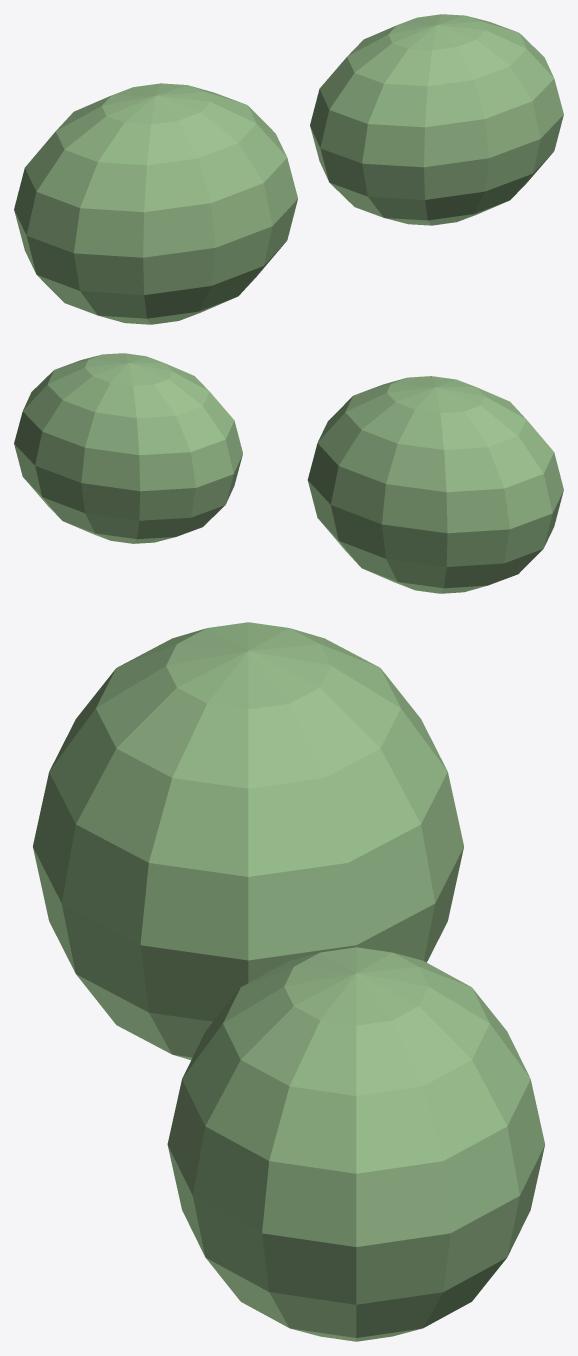
Rendered from vacant_lot_shrubs.glb.
3 views of the same model, one above another, from view 1: azimuth 30°, elevation 25°; view 2: azimuth 150°, elevation 25°; view 3: azimuth 270°, elevation 25° (orthographic). The views are drawn at different scales.
Parts seen in each view (by area): view 1: s1, s2; view 2: s1, s2; view 3: s1, s2.
Part boxes in pixels (x1,y1,x2,y2): s1: [14, 83, 297, 324]; s2: [310, 14, 563, 225]; s1: [307, 376, 563, 593]; s2: [14, 353, 242, 543]; s1: [33, 622, 463, 1059]; s2: [167, 947, 544, 1341].
Size of the model in its own units: 2.15 by 0.8 by 0.95.
